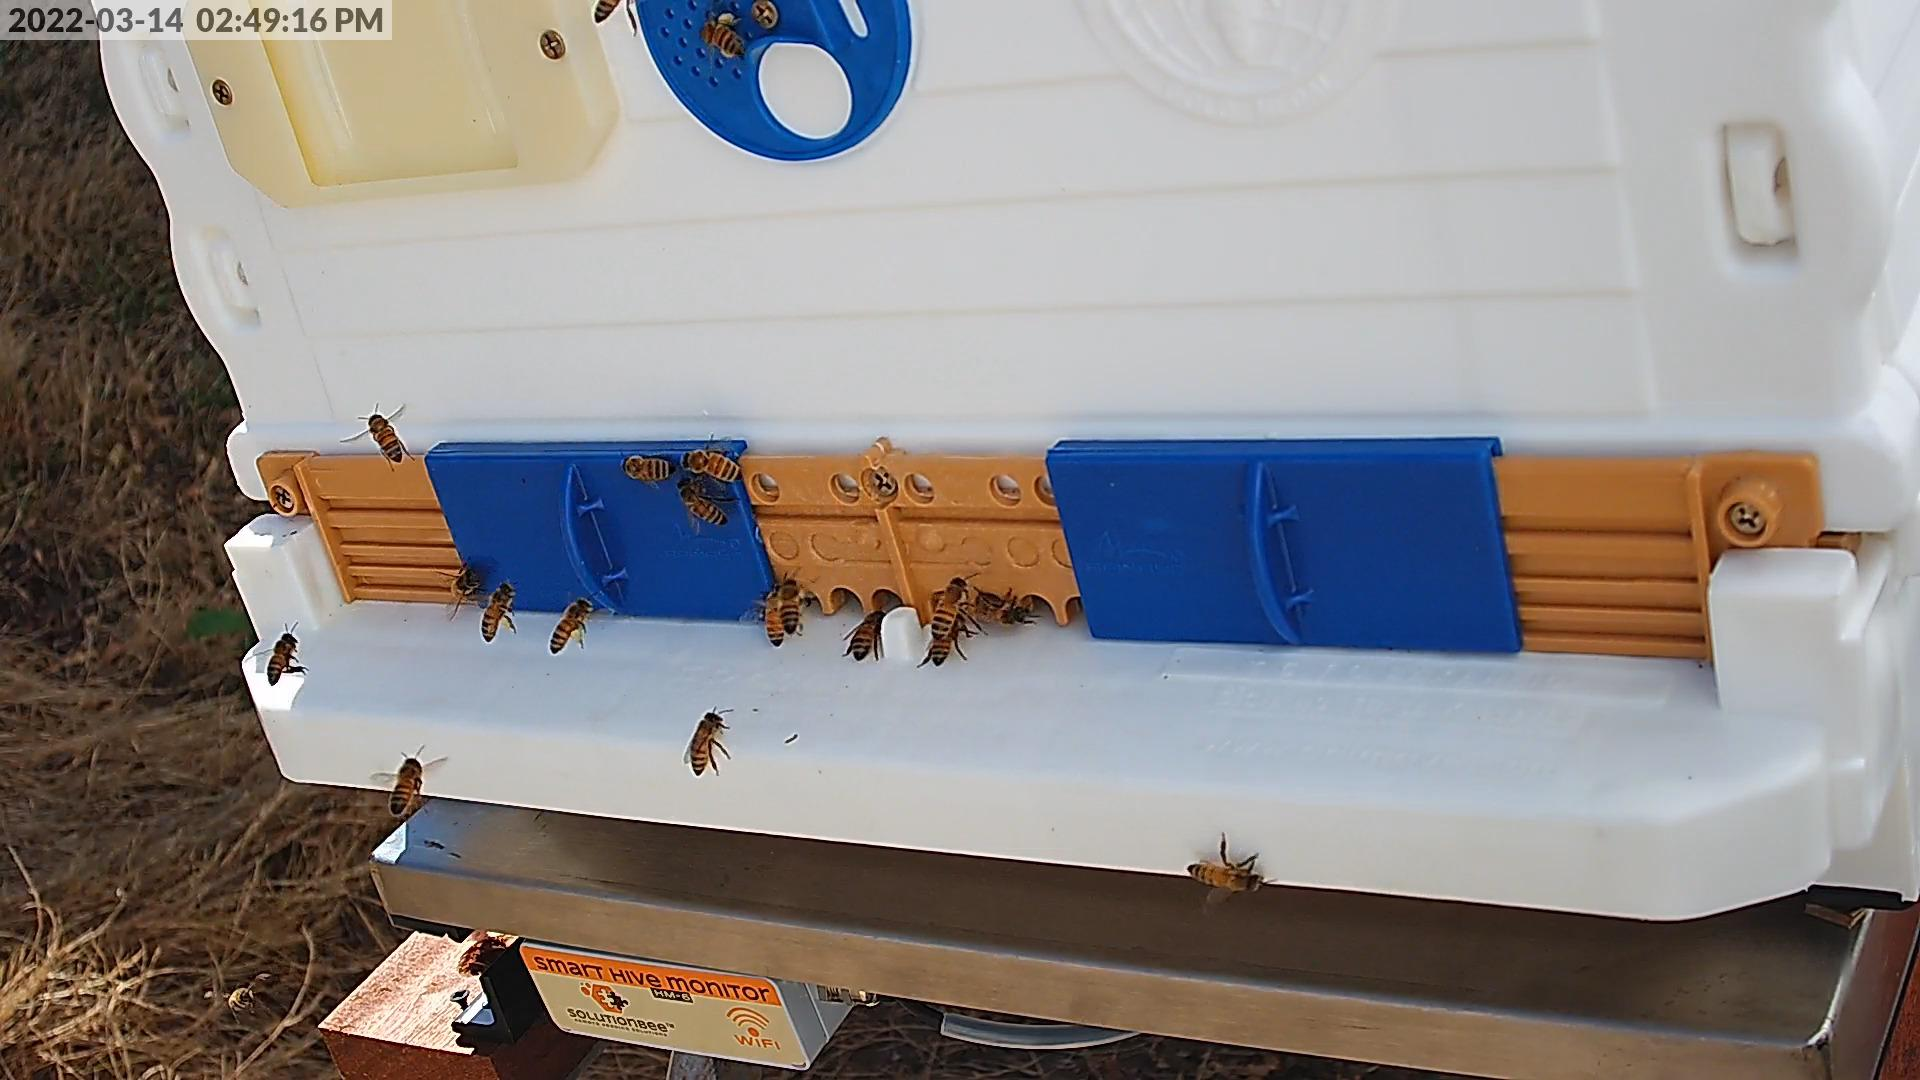bee: (676, 476, 728, 525), (688, 711, 727, 774), (1189, 858, 1262, 891), (931, 578, 967, 640), (680, 448, 745, 481), (967, 596, 1033, 626), (932, 609, 967, 667), (389, 758, 425, 814), (367, 413, 404, 463), (848, 611, 886, 658), (268, 634, 302, 682), (622, 455, 675, 483), (781, 579, 804, 634), (764, 591, 785, 645), (454, 568, 483, 603), (225, 986, 252, 1011), (595, 0, 622, 21)
pollenbee: (480, 580, 517, 641), (549, 599, 591, 651), (696, 11, 744, 55)
